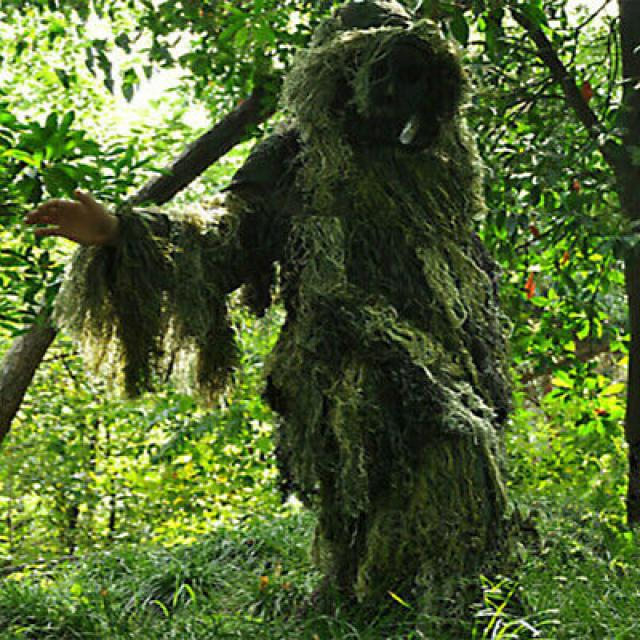Human: (28, 1, 503, 606)
